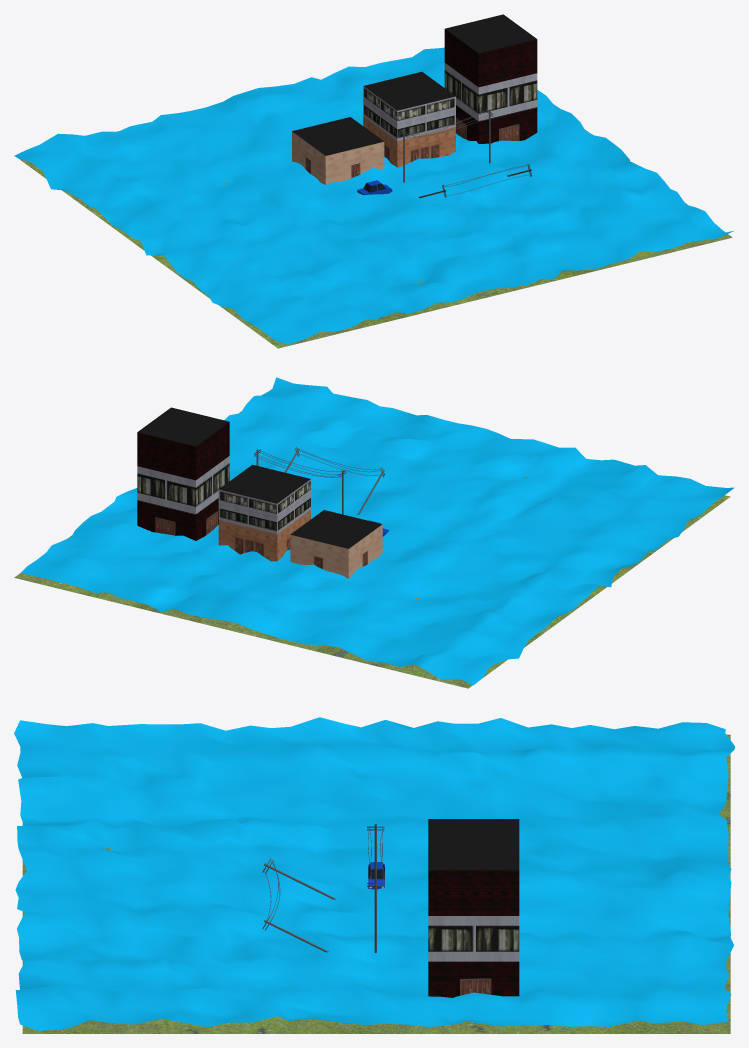
File: flood scene.fbx
The picture shows the model from 3 angles, top to bottom: view 1: azimuth 30°, elevation 25°; view 2: azimuth 150°, elevation 25°; view 3: azimuth 270°, elevation 25°; orthographic projection. The views are drawn at different scales.
Parts seen in each view (by area): view 1: Plane.001, Cube.002, Cube.001, Cube, Plane; view 2: Plane.001, Cube.002, Cube.001, Cube, Plane; view 3: Plane.001, Cube.002, Plane, Cube.
Boxes of the visible parts, x1,y1,x2,y2 form: Plane.001: [14, 47, 733, 344]; Cube.002: [444, 14, 537, 143]; Cube.001: [363, 71, 455, 167]; Cube: [292, 117, 384, 184]; Plane: [19, 119, 732, 348]; Plane.001: [21, 377, 734, 685]; Cube.002: [137, 407, 229, 540]; Cube.001: [218, 464, 310, 561]; Cube: [290, 510, 382, 578]; Plane: [14, 389, 730, 688]; Plane.001: [14, 717, 734, 1030]; Cube.002: [428, 831, 519, 997]; Plane: [22, 734, 730, 1033]; Cube: [428, 819, 519, 828].
Size of the model in its own units: 1580 by 330 by 1580.
